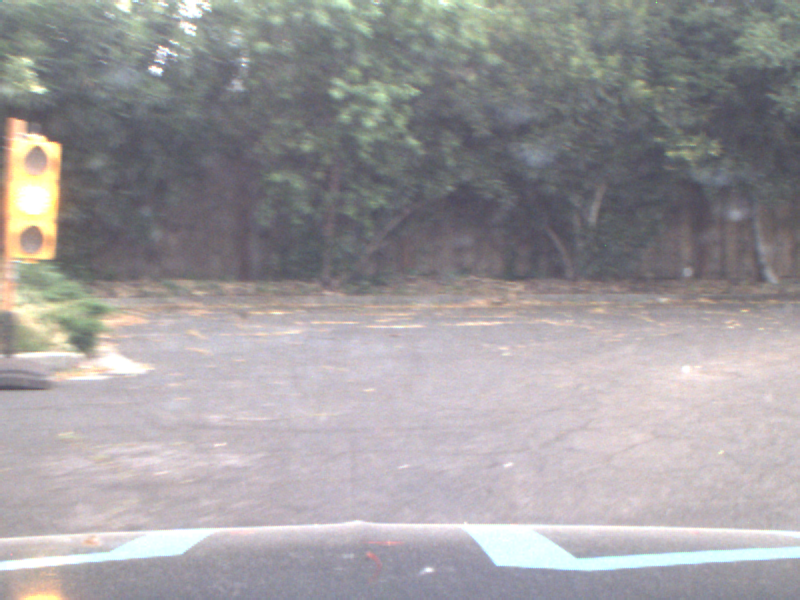Yellow: (4, 138, 64, 256)
